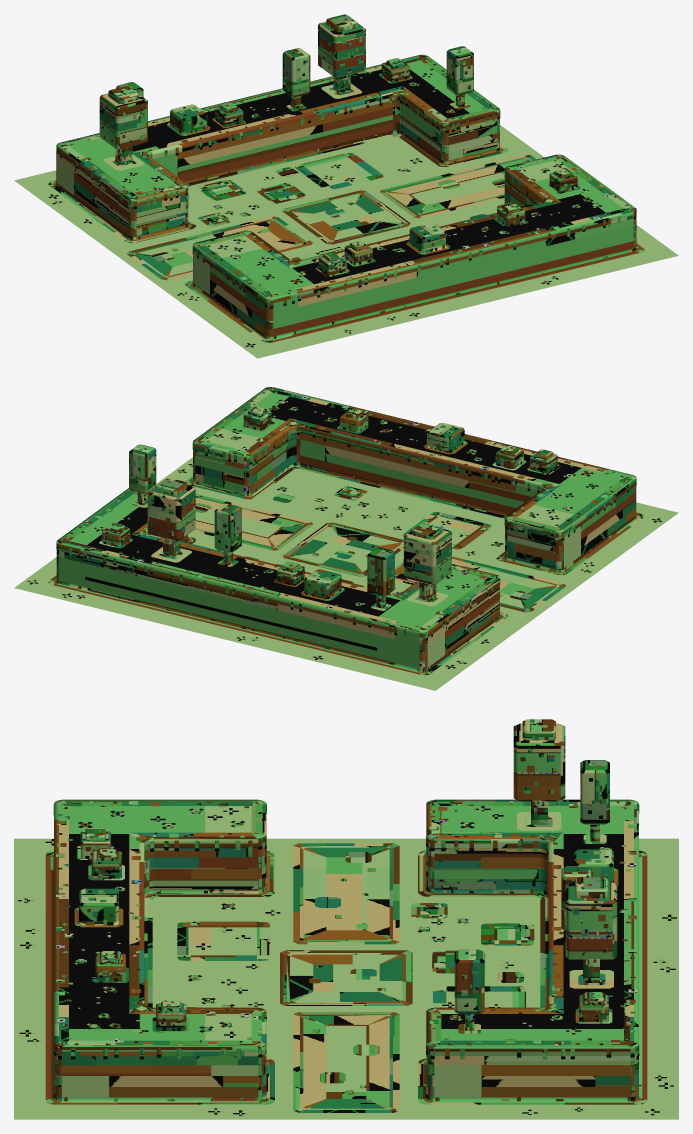
File: C_grass1_12.fbx
The picture shows the model from 3 angles, top to bottom: view 1: azimuth 30°, elevation 25°; view 2: azimuth 150°, elevation 25°; view 3: azimuth 270°, elevation 25°; orthographic projection. The views are drawn at different scales.
Parts seen in each view (by area): view 1: C_grass1_12.001; view 2: C_grass1_12.001; view 3: C_grass1_12.001.
Boxes of the visible parts, x1=… form: C_grass1_12.001: x1=14, y1=14, x2=678, y2=358; C_grass1_12.001: x1=14, y1=387, x2=678, y2=690; C_grass1_12.001: x1=14, y1=719, x2=678, y2=1119.
Size of the model in its own units: 50 by 12.68 by 50.
Materials: 1 (1 with a texture image).
